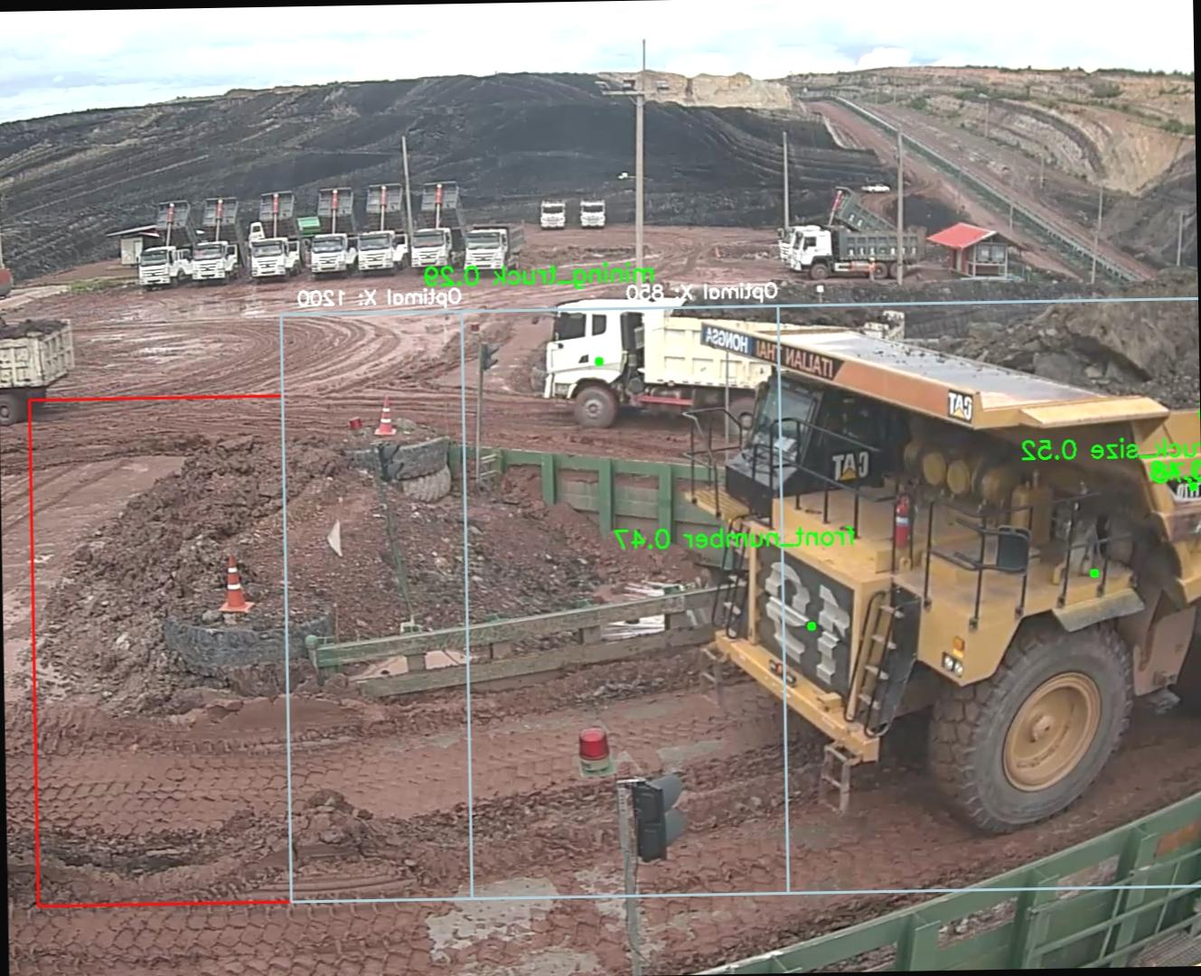full_load: (960, 267, 1195, 434)
mining_truck: (682, 259, 1201, 852)
